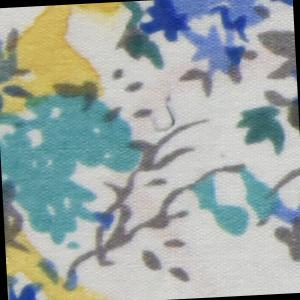Oil Stain: (1, 2, 129, 122), (4, 211, 119, 300)
